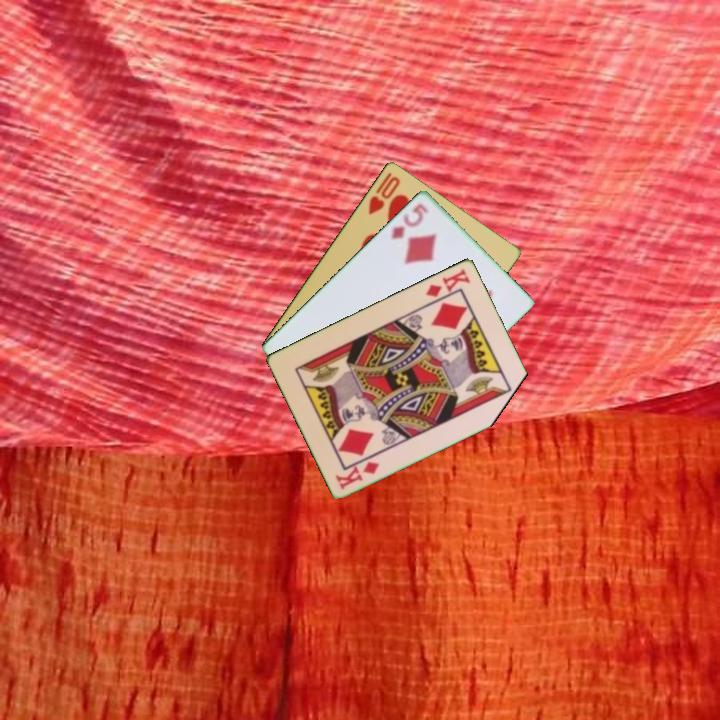10h: (364, 169, 403, 217)
5d: (388, 200, 432, 242)
Kd: (422, 264, 473, 299), (332, 457, 383, 492)
